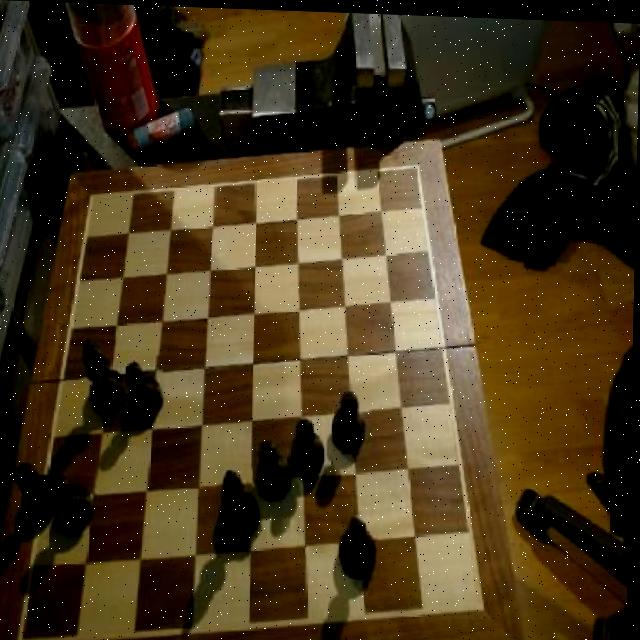bishop: (80, 337, 129, 421), (218, 465, 266, 549)
black-knight: (123, 355, 167, 425), (14, 461, 58, 529), (338, 512, 381, 581), (55, 471, 100, 535), (254, 435, 296, 503), (332, 387, 372, 455), (290, 421, 329, 485)
